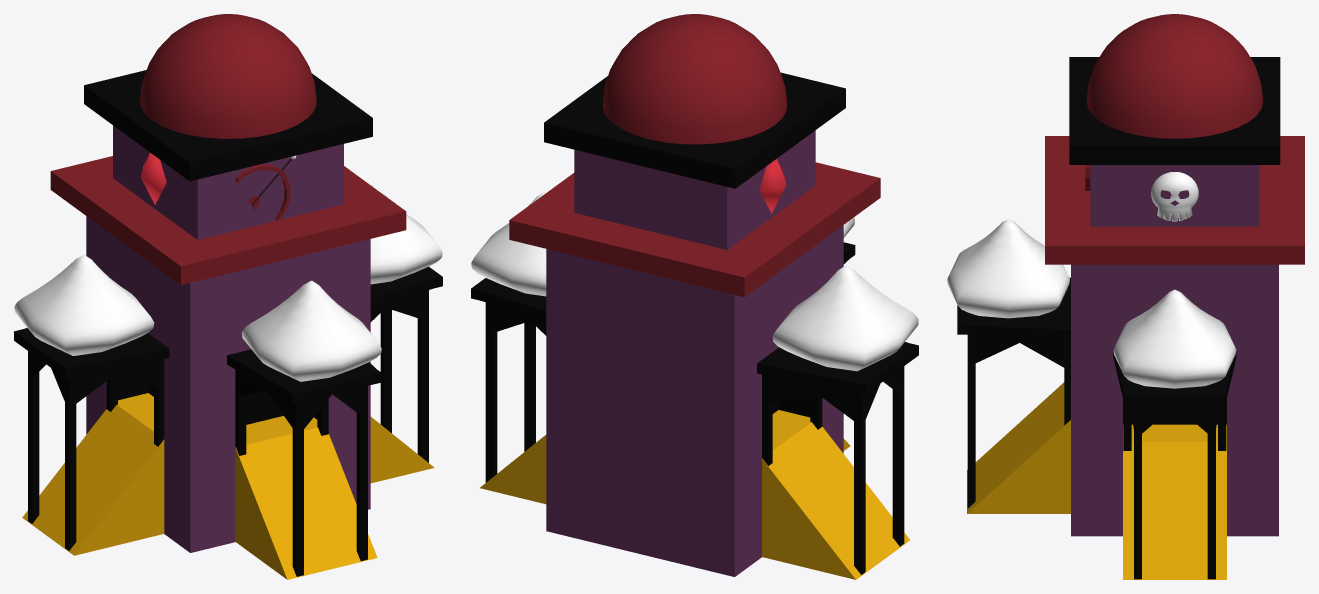
File: BuildingRed.fbx
3 renders of one model, left to right at view 1: azimuth 30°, elevation 25°; view 2: azimuth 150°, elevation 25°; view 3: azimuth 270°, elevation 25°, orthographic. The views are drawn at different scales.
Visible parts, largest first — view 1: BuildingRed; view 2: BuildingRed; view 3: BuildingRed.
Part boxes in pixels (left/top/right/bottom): BuildingRed: left=14, top=14, right=442, bottom=579; BuildingRed: left=471, top=14, right=918, bottom=579; BuildingRed: left=947, top=14, right=1304, bottom=579.
Size of the model in its own units: 438 by 499 by 344.
